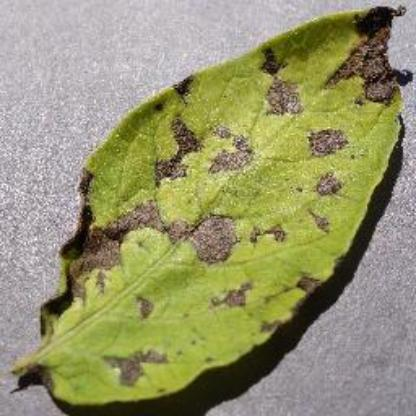Early-Blight: (14, 5, 412, 410)
